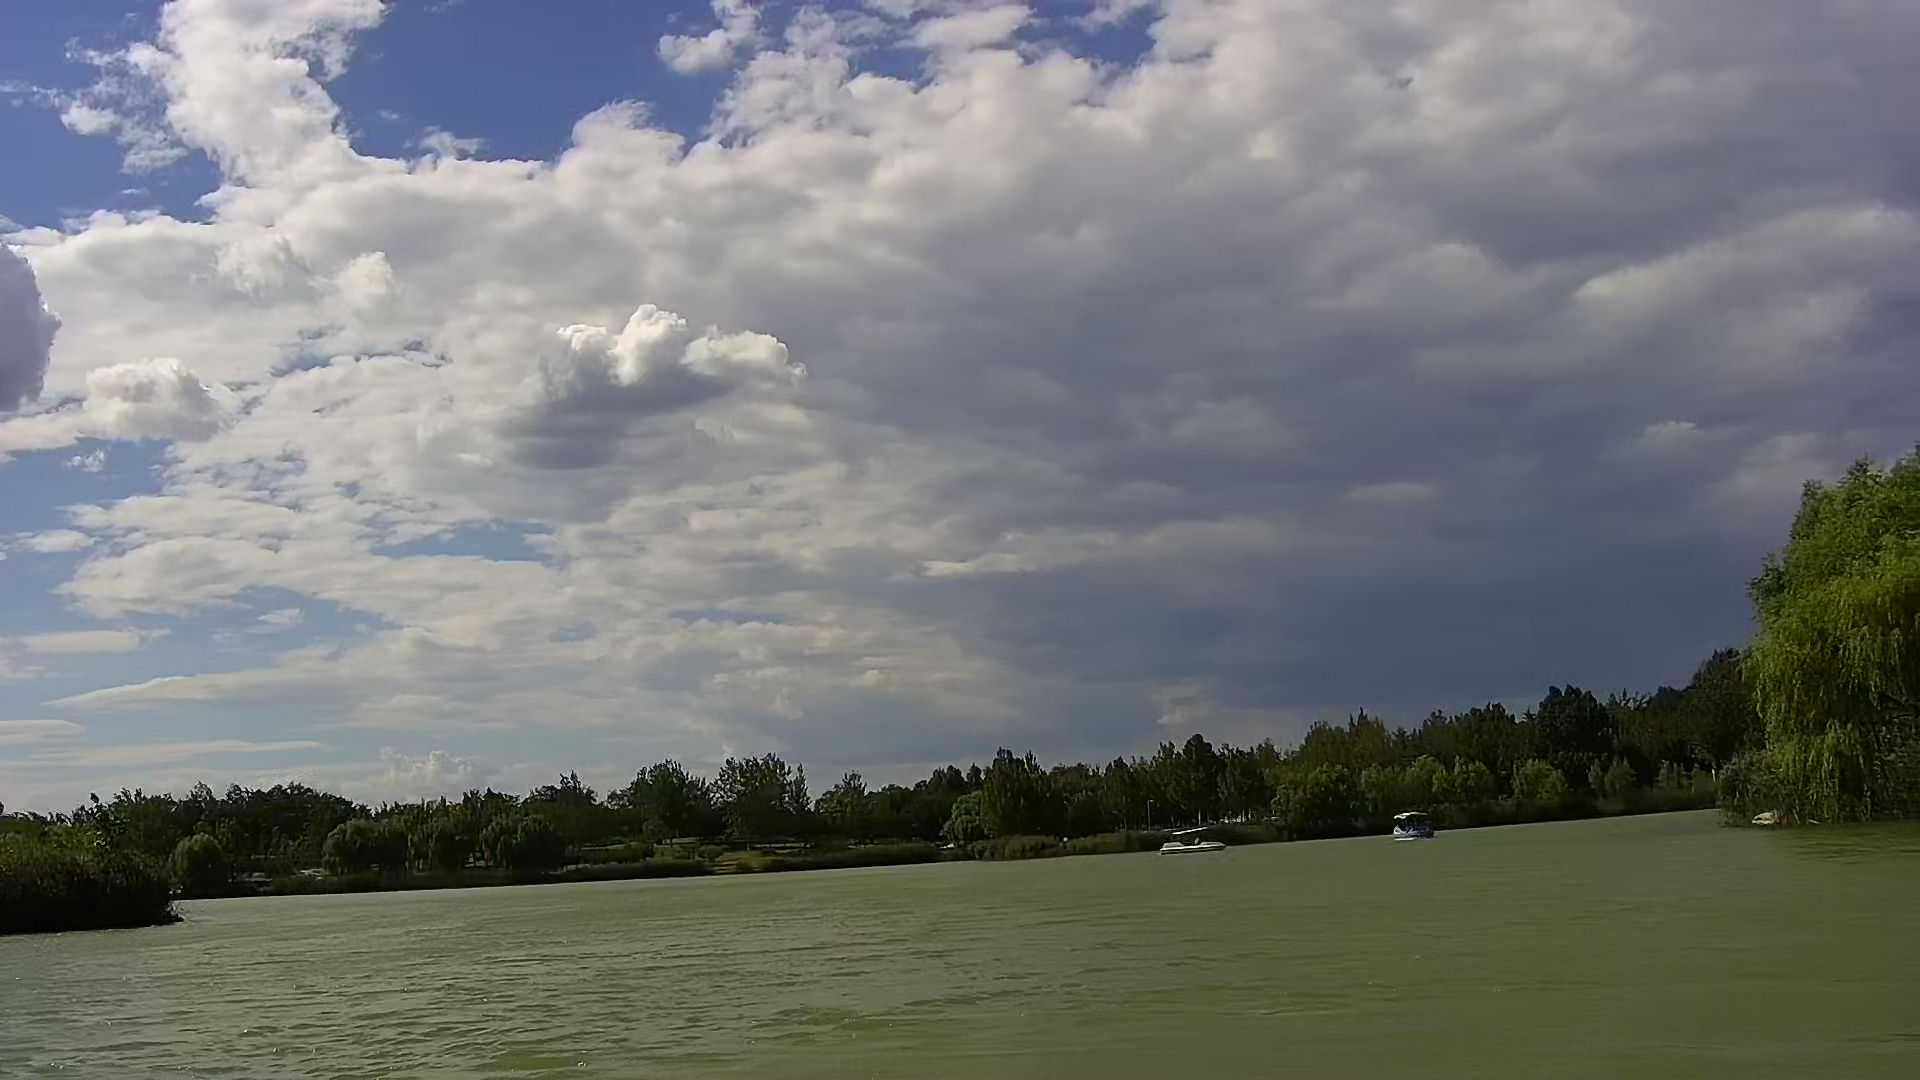boat: (1156, 825, 1230, 860), (1389, 808, 1435, 845)
rock: (1750, 811, 1815, 832)
